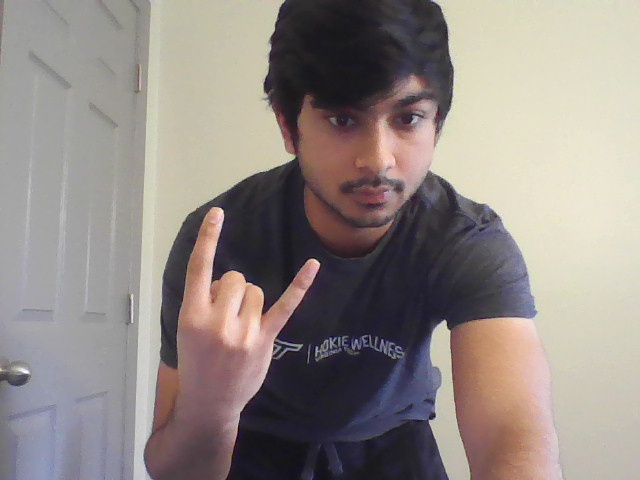help: (173, 204, 323, 404)
